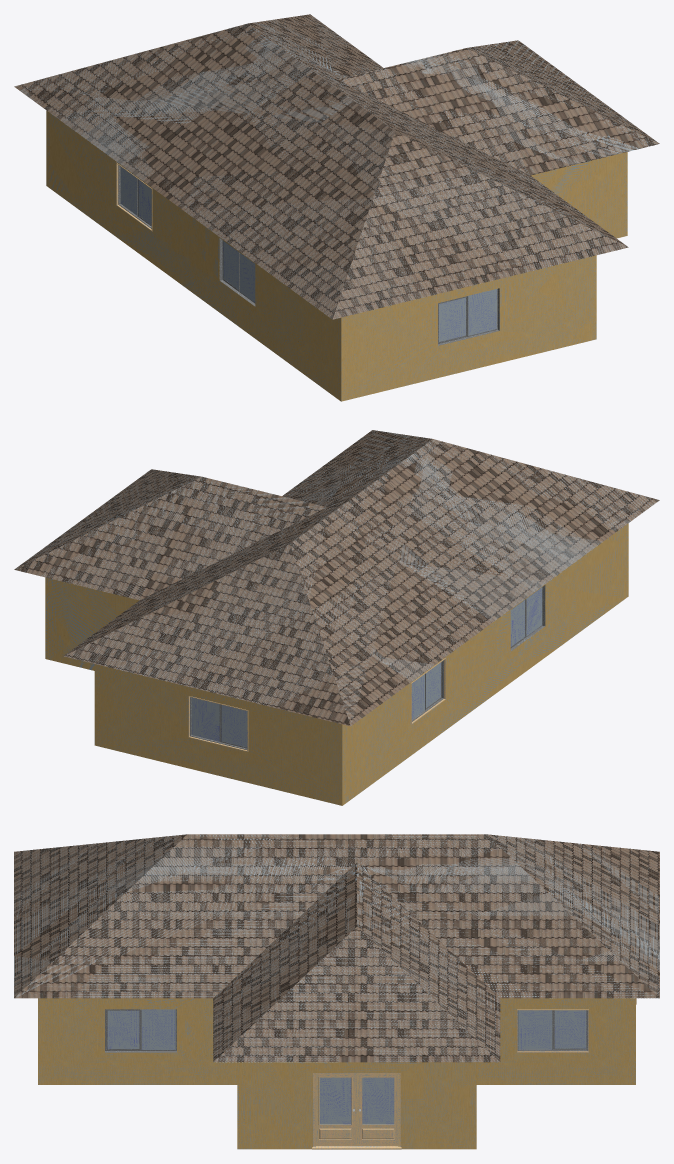
The model's file is 35materialSketch.dae.
3 renders of one model, top to bottom at view 1: azimuth 30°, elevation 25°; view 2: azimuth 150°, elevation 25°; view 3: azimuth 270°, elevation 25°, orthographic. The views are drawn at different scales.
Parts seen in each view (by area): view 1: skp1D4B (×9); view 2: skp1D4B (×8); view 3: skp1D4B (×15).
Part boxes in pixels (<box>): skp1D4B (×9): <box>14,14,659,401</box>; skp1D4B (×8): <box>14,430,659,805</box>; skp1D4B (×15): <box>14,834,659,1149</box>.
Bounding box in the file's own units: 492 × 638 × 204.
Materials: 8 (3 with a texture image).
